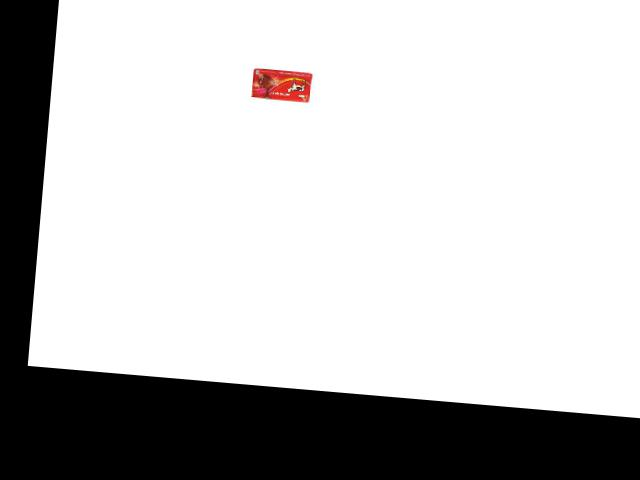chocolate: (250, 65, 315, 102)
